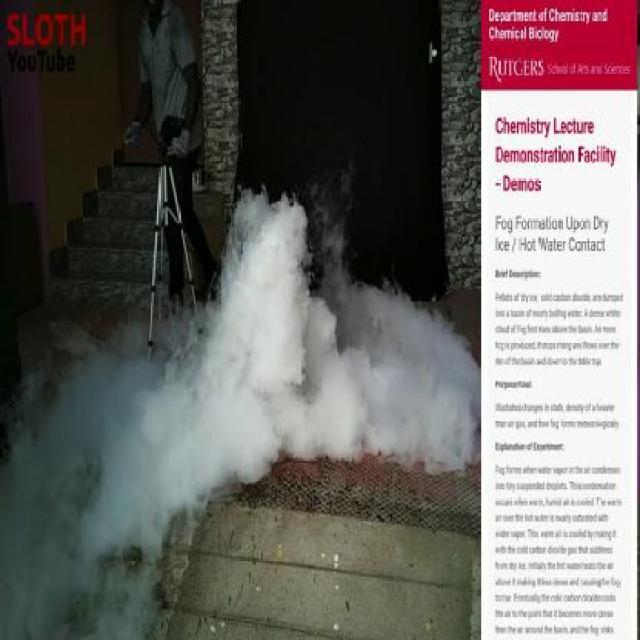smoke: (108, 141, 466, 490)
